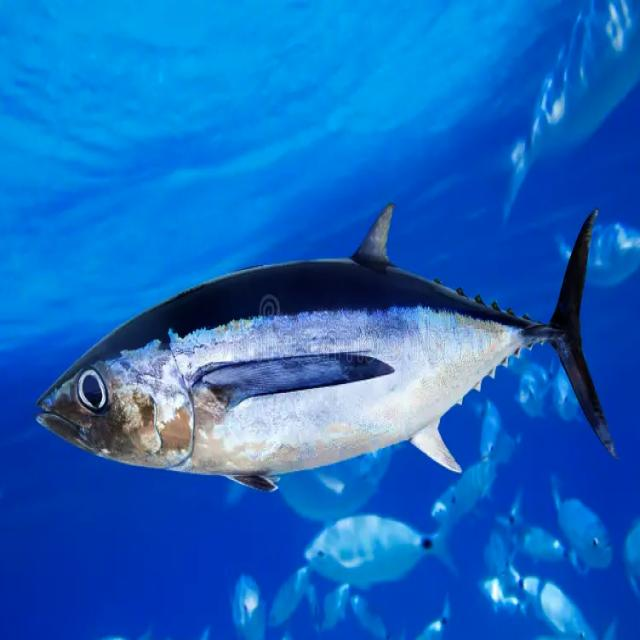Tuna: (33, 202, 617, 498)
